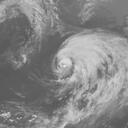cyclone: (49, 27, 127, 120)
